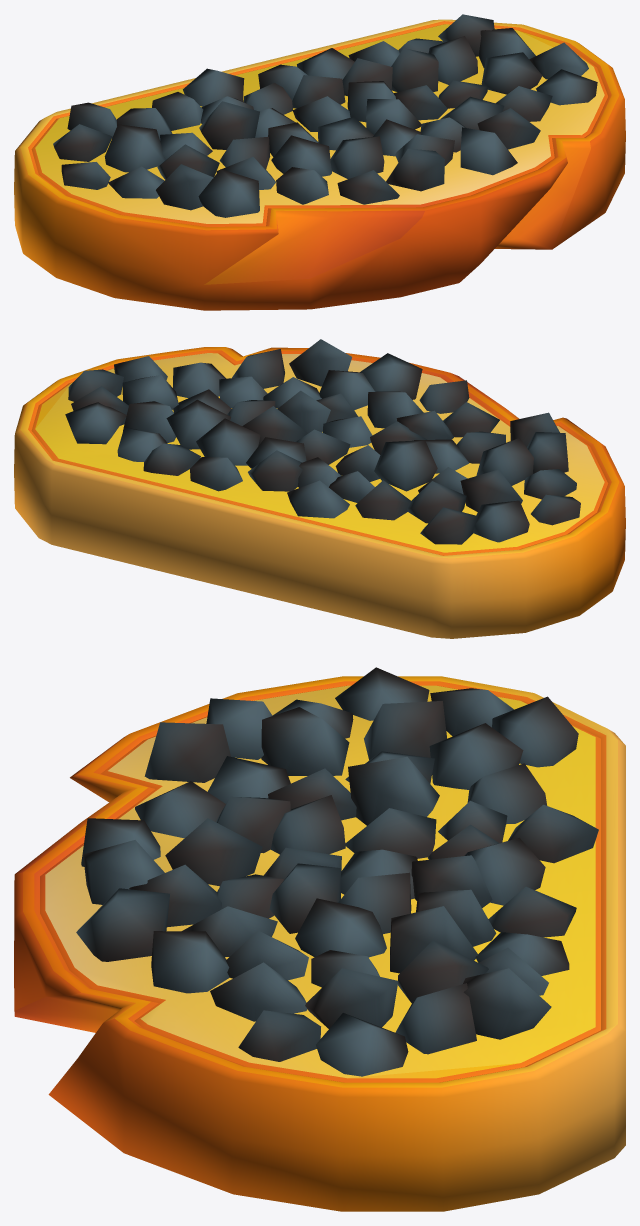
The model's file is sandwich_006.fbx.
3 renders of one model, top to bottom at view 1: azimuth 30°, elevation 25°; view 2: azimuth 150°, elevation 25°; view 3: azimuth 270°, elevation 25°, orthographic. The views are drawn at different scales.
Visible parts, largest first — view 1: sandwich_006; view 2: sandwich_006; view 3: sandwich_006.
Boxes of the visible parts, x1,y1,x2,y2 form: sandwich_006: (14, 14, 625, 310); sandwich_006: (14, 339, 625, 638); sandwich_006: (14, 667, 625, 1211).
Bounding box in the file's own units: 14.33 × 8.83 × 2.83.
